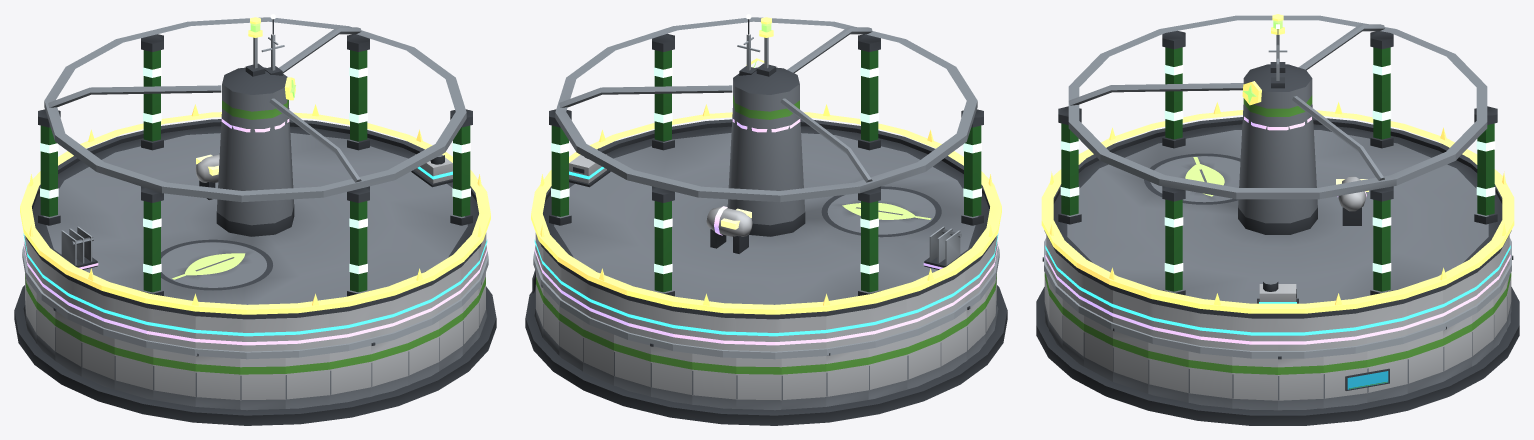
File: algae_bioreactor_s.glb
The picture shows the model from 3 angles, left to right: view 1: azimuth 30°, elevation 25°; view 2: azimuth 150°, elevation 25°; view 3: azimuth 270°, elevation 25°; orthographic projection.
Visible parts, largest first — view 1: Roof, Base, Wall_20, Wall_21, Wall_22, Wall_19, Wall_23, Wall_18, Wall_24, L4, Wall_17, Wall_25 (+27 smaller); view 2: Roof, Base, L4, Wall_11, Wall_10, Wall_09, Wall_12, Wall_08, Wall_13, Wall_07, Wall_14, Wall_06 (+27 smaller); view 3: Roof, Base, Wall_00, Wall_31, Wall_30, Wall_29, Wall_01, Wall_28, Wall_03, Wall_02, Wall_27, Wall_04 (+29 smaller).
Part boxes in pixels (left/top/right/bottom): Roof: left=26, top=17, right=481, bottom=319; Base: left=14, top=285, right=496, bottom=425; Wall_20: left=195, top=353, right=240, bottom=409; Wall_21: left=240, top=358, right=285, bottom=410; Wall_22: left=285, top=353, right=329, bottom=408; Wall_19: left=153, top=349, right=195, bottom=406; Wall_23: left=329, top=345, right=370, bottom=404; Wall_18: left=114, top=339, right=153, bottom=399; Wall_24: left=371, top=334, right=407, bottom=396; L4: left=60, top=119, right=289, bottom=269; Wall_17: left=81, top=326, right=114, bottom=389; Wall_25: left=408, top=321, right=438, bottom=385; Roof: left=540, top=17, right=995, bottom=319; Base: left=525, top=285, right=1007, bottom=425; L4: left=706, top=119, right=961, bottom=269; Wall_11: left=781, top=356, right=826, bottom=409; Wall_10: left=736, top=358, right=781, bottom=410; Wall_09: left=692, top=353, right=736, bottom=408; Wall_12: left=826, top=349, right=868, bottom=406; Wall_08: left=650, top=343, right=692, bottom=404; Wall_13: left=868, top=339, right=907, bottom=399; Wall_07: left=614, top=334, right=650, bottom=396; Wall_14: left=907, top=326, right=940, bottom=389; Wall_06: left=583, top=321, right=613, bottom=385; Roof: left=1044, top=15, right=1511, bottom=318; Base: left=1036, top=287, right=1519, bottom=425; Wall_00: left=1278, top=356, right=1323, bottom=410; Wall_31: left=1232, top=356, right=1277, bottom=410; Wall_30: left=1188, top=351, right=1232, bottom=408; Wall_29: left=1148, top=342, right=1188, bottom=402; Wall_01: left=1323, top=351, right=1367, bottom=408; Wall_28: left=1113, top=328, right=1148, bottom=393; Wall_03: left=1407, top=330, right=1442, bottom=393; Wall_02: left=1367, top=342, right=1407, bottom=402; Wall_27: left=1083, top=315, right=1112, bottom=381; Wall_04: left=1443, top=315, right=1471, bottom=381.
Bounding box in the file's own units: 10.53 × 7.39 × 10.53.
